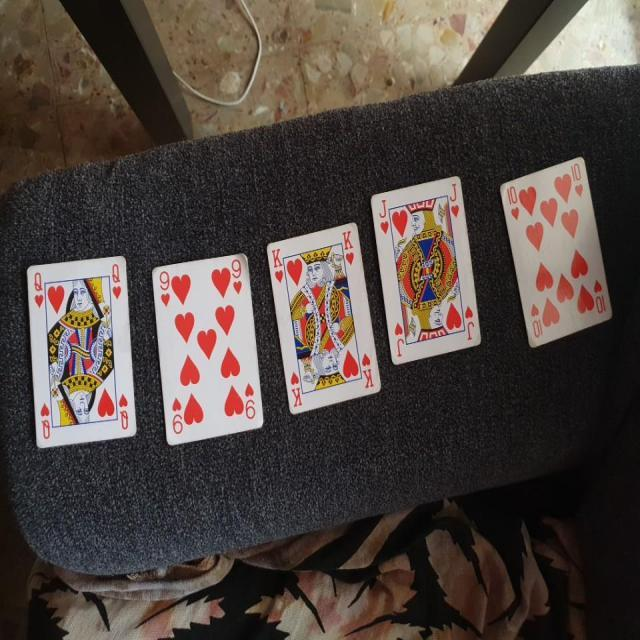10 of hearts: (500, 154, 618, 352)
9 of hearts: (146, 247, 272, 453)
jack of hearts: (368, 171, 486, 369)
king of hearts: (263, 215, 387, 426)
queen of hearts: (20, 246, 142, 454)
